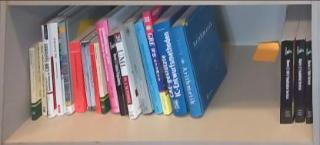book-spine: (153, 20, 188, 119), (169, 25, 204, 119), (142, 10, 170, 116), (123, 20, 153, 115), (135, 20, 163, 115), (96, 20, 120, 115), (114, 32, 136, 119), (107, 34, 127, 116), (49, 22, 65, 116), (58, 22, 72, 114), (280, 40, 295, 124), (69, 41, 86, 113), (41, 24, 54, 118), (294, 40, 305, 123), (80, 41, 92, 111), (94, 42, 105, 114), (91, 43, 101, 114), (38, 40, 47, 117), (86, 43, 96, 110), (305, 41, 313, 124), (29, 47, 37, 121)
